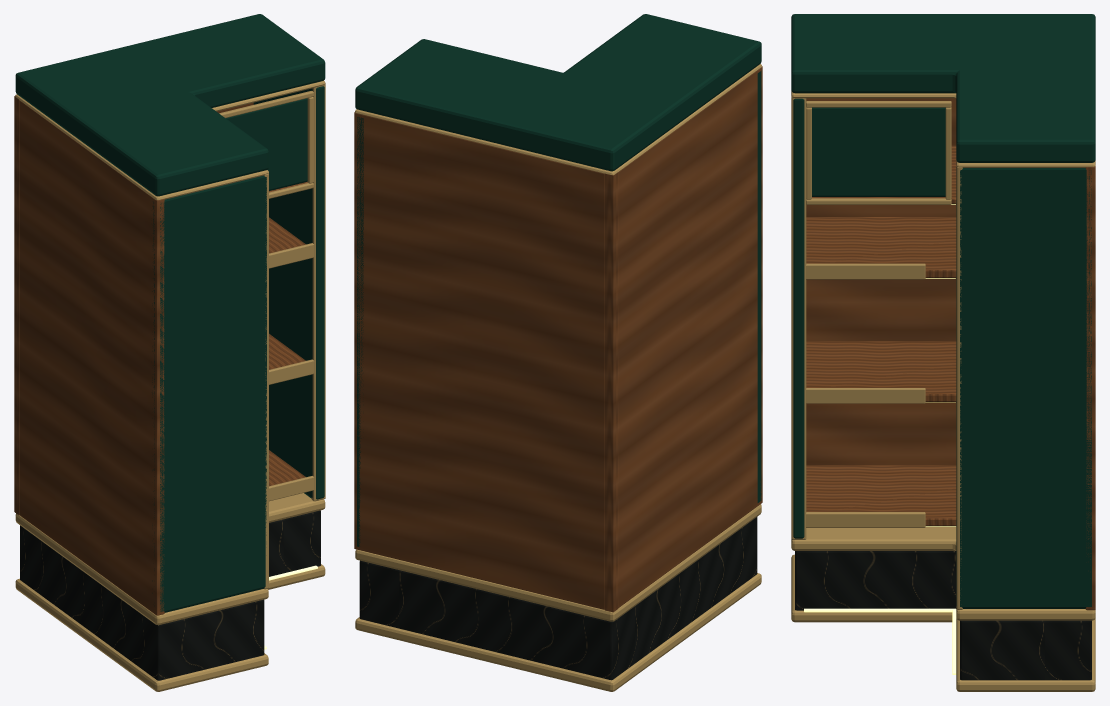
3 views of the same model, side by side, from view 1: azimuth 30°, elevation 25°; view 2: azimuth 150°, elevation 25°; view 3: azimuth 270°, elevation 25° (orthographic). The views are drawn at different scales.
Parts seen in each view (by area): view 1: cabinet_back_B, cabinet_end_B, cabinet_crown, cabinet_stone_base, cabinet_end_A, brand_header_front_panel, trim_base_top, trim_base_plinth, cabinet_corner_spine, trim_front_A, trim_crown_lip, trim_front_B (+8 smaller); view 2: cabinet_back_A, cabinet_back_B, cabinet_crown, cabinet_stone_base, cabinet_corner_spine, trim_base_plinth, trim_base_top, cabinet_end_A, cabinet_end_B, trim_crown_lip; view 3: cabinet_end_A, cabinet_crown, cabinet_back_B, cabinet_stone_base, brand_header_side_panel, shelf_1, shelf_2, shelf_3, trim_base_top, cabinet_end_B, trim_base_plinth, cabinet_back_A (+12 smaller).
Part boxes in pixels (box(x1,y1,x2,y2)): cabinet_back_B: box(19, 100, 164, 615); cabinet_end_B: box(152, 175, 266, 612); cabinet_crown: box(15, 14, 325, 196); cabinet_stone_base: box(20, 510, 320, 680); cabinet_end_A: box(253, 86, 324, 499); brand_header_front_panel: box(226, 98, 307, 190); trim_base_top: box(15, 493, 325, 625); trim_base_plinth: box(15, 564, 325, 691); cabinet_corner_spine: box(14, 96, 19, 515); trim_front_A: box(311, 84, 325, 501); trim_crown_lip: box(15, 80, 325, 200); trim_front_B: box(264, 173, 268, 589); cabinet_back_A: box(354, 112, 604, 609); cabinet_back_B: box(618, 66, 762, 607); cabinet_crown: box(355, 14, 761, 171); cabinet_stone_base: box(359, 517, 757, 680); cabinet_corner_spine: box(604, 172, 618, 612); trim_base_plinth: box(355, 573, 761, 691); trim_base_top: box(355, 504, 761, 621); cabinet_end_A: box(357, 117, 363, 546); cabinet_end_B: box(757, 71, 761, 502); trim_crown_lip: box(355, 64, 761, 174); cabinet_end_A: box(956, 166, 1091, 608); cabinet_crown: box(791, 14, 1095, 162); cabinet_back_B: box(806, 98, 956, 465); cabinet_stone_base: box(795, 551, 1091, 680); brand_header_side_panel: box(812, 107, 945, 196); shelf_1: box(806, 465, 956, 526); shelf_2: box(806, 341, 956, 402); shelf_3: box(806, 217, 956, 277); trim_base_top: box(791, 527, 1095, 620); cabinet_end_B: box(793, 98, 804, 538); trim_base_plinth: box(791, 554, 1095, 691); cabinet_back_A: box(1085, 166, 1095, 610).
Size of the model in its own units: 1.2 by 2.4 by 1.2.
6 materials, 3 textured.
